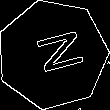N_W: (23, 29, 83, 80)
